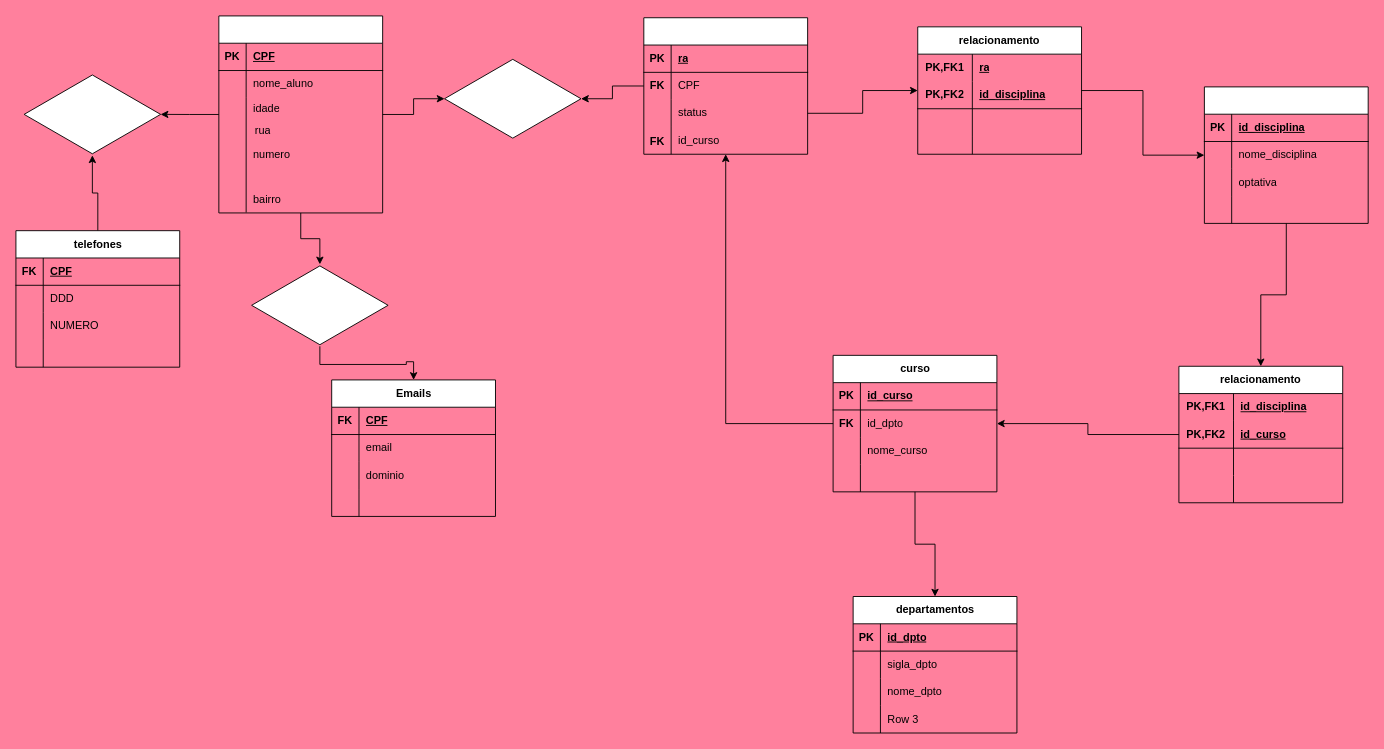
The diagram is 1384 pixels wide and 749 high, and some of its shapes have lost their labels. Here are the shapes that lost their labels. From the top down, the box of each, then its label:
(643, 17, 808, 154): matriculas
(218, 15, 383, 213): alunos
(1203, 86, 1368, 223): disciplinas
